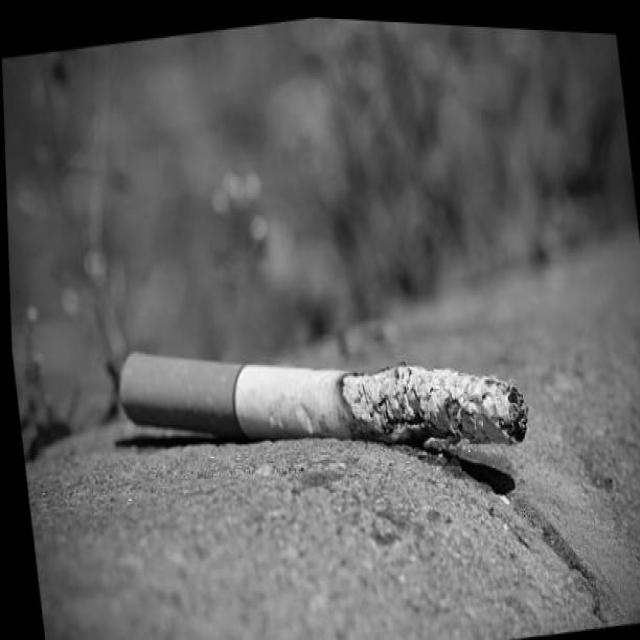cigarette: (106, 270, 533, 519)
